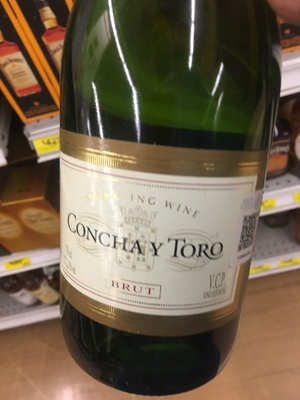brut: (51, 9, 283, 378)
